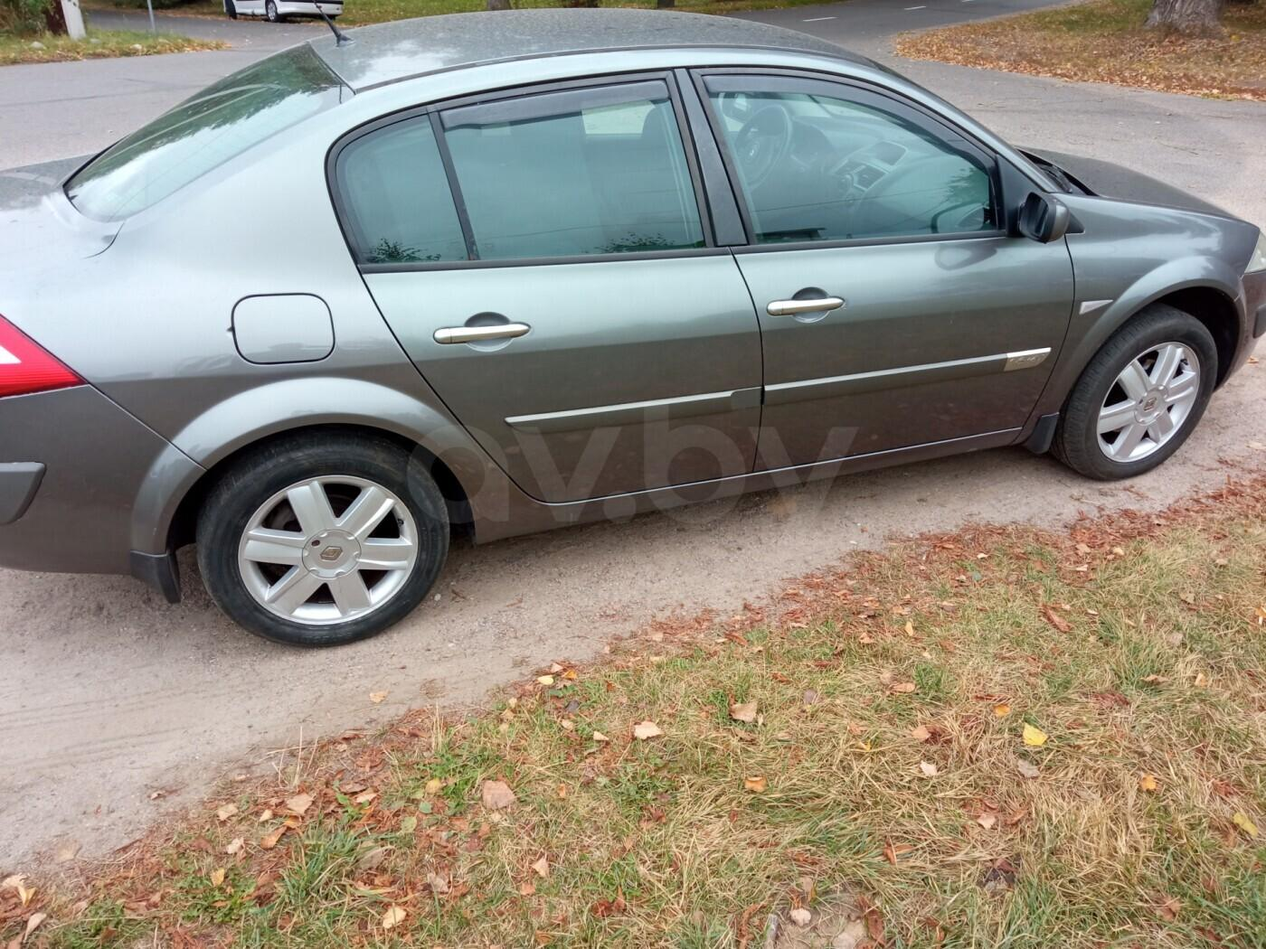Megane_2002-2006: (0, 18, 1266, 634)
